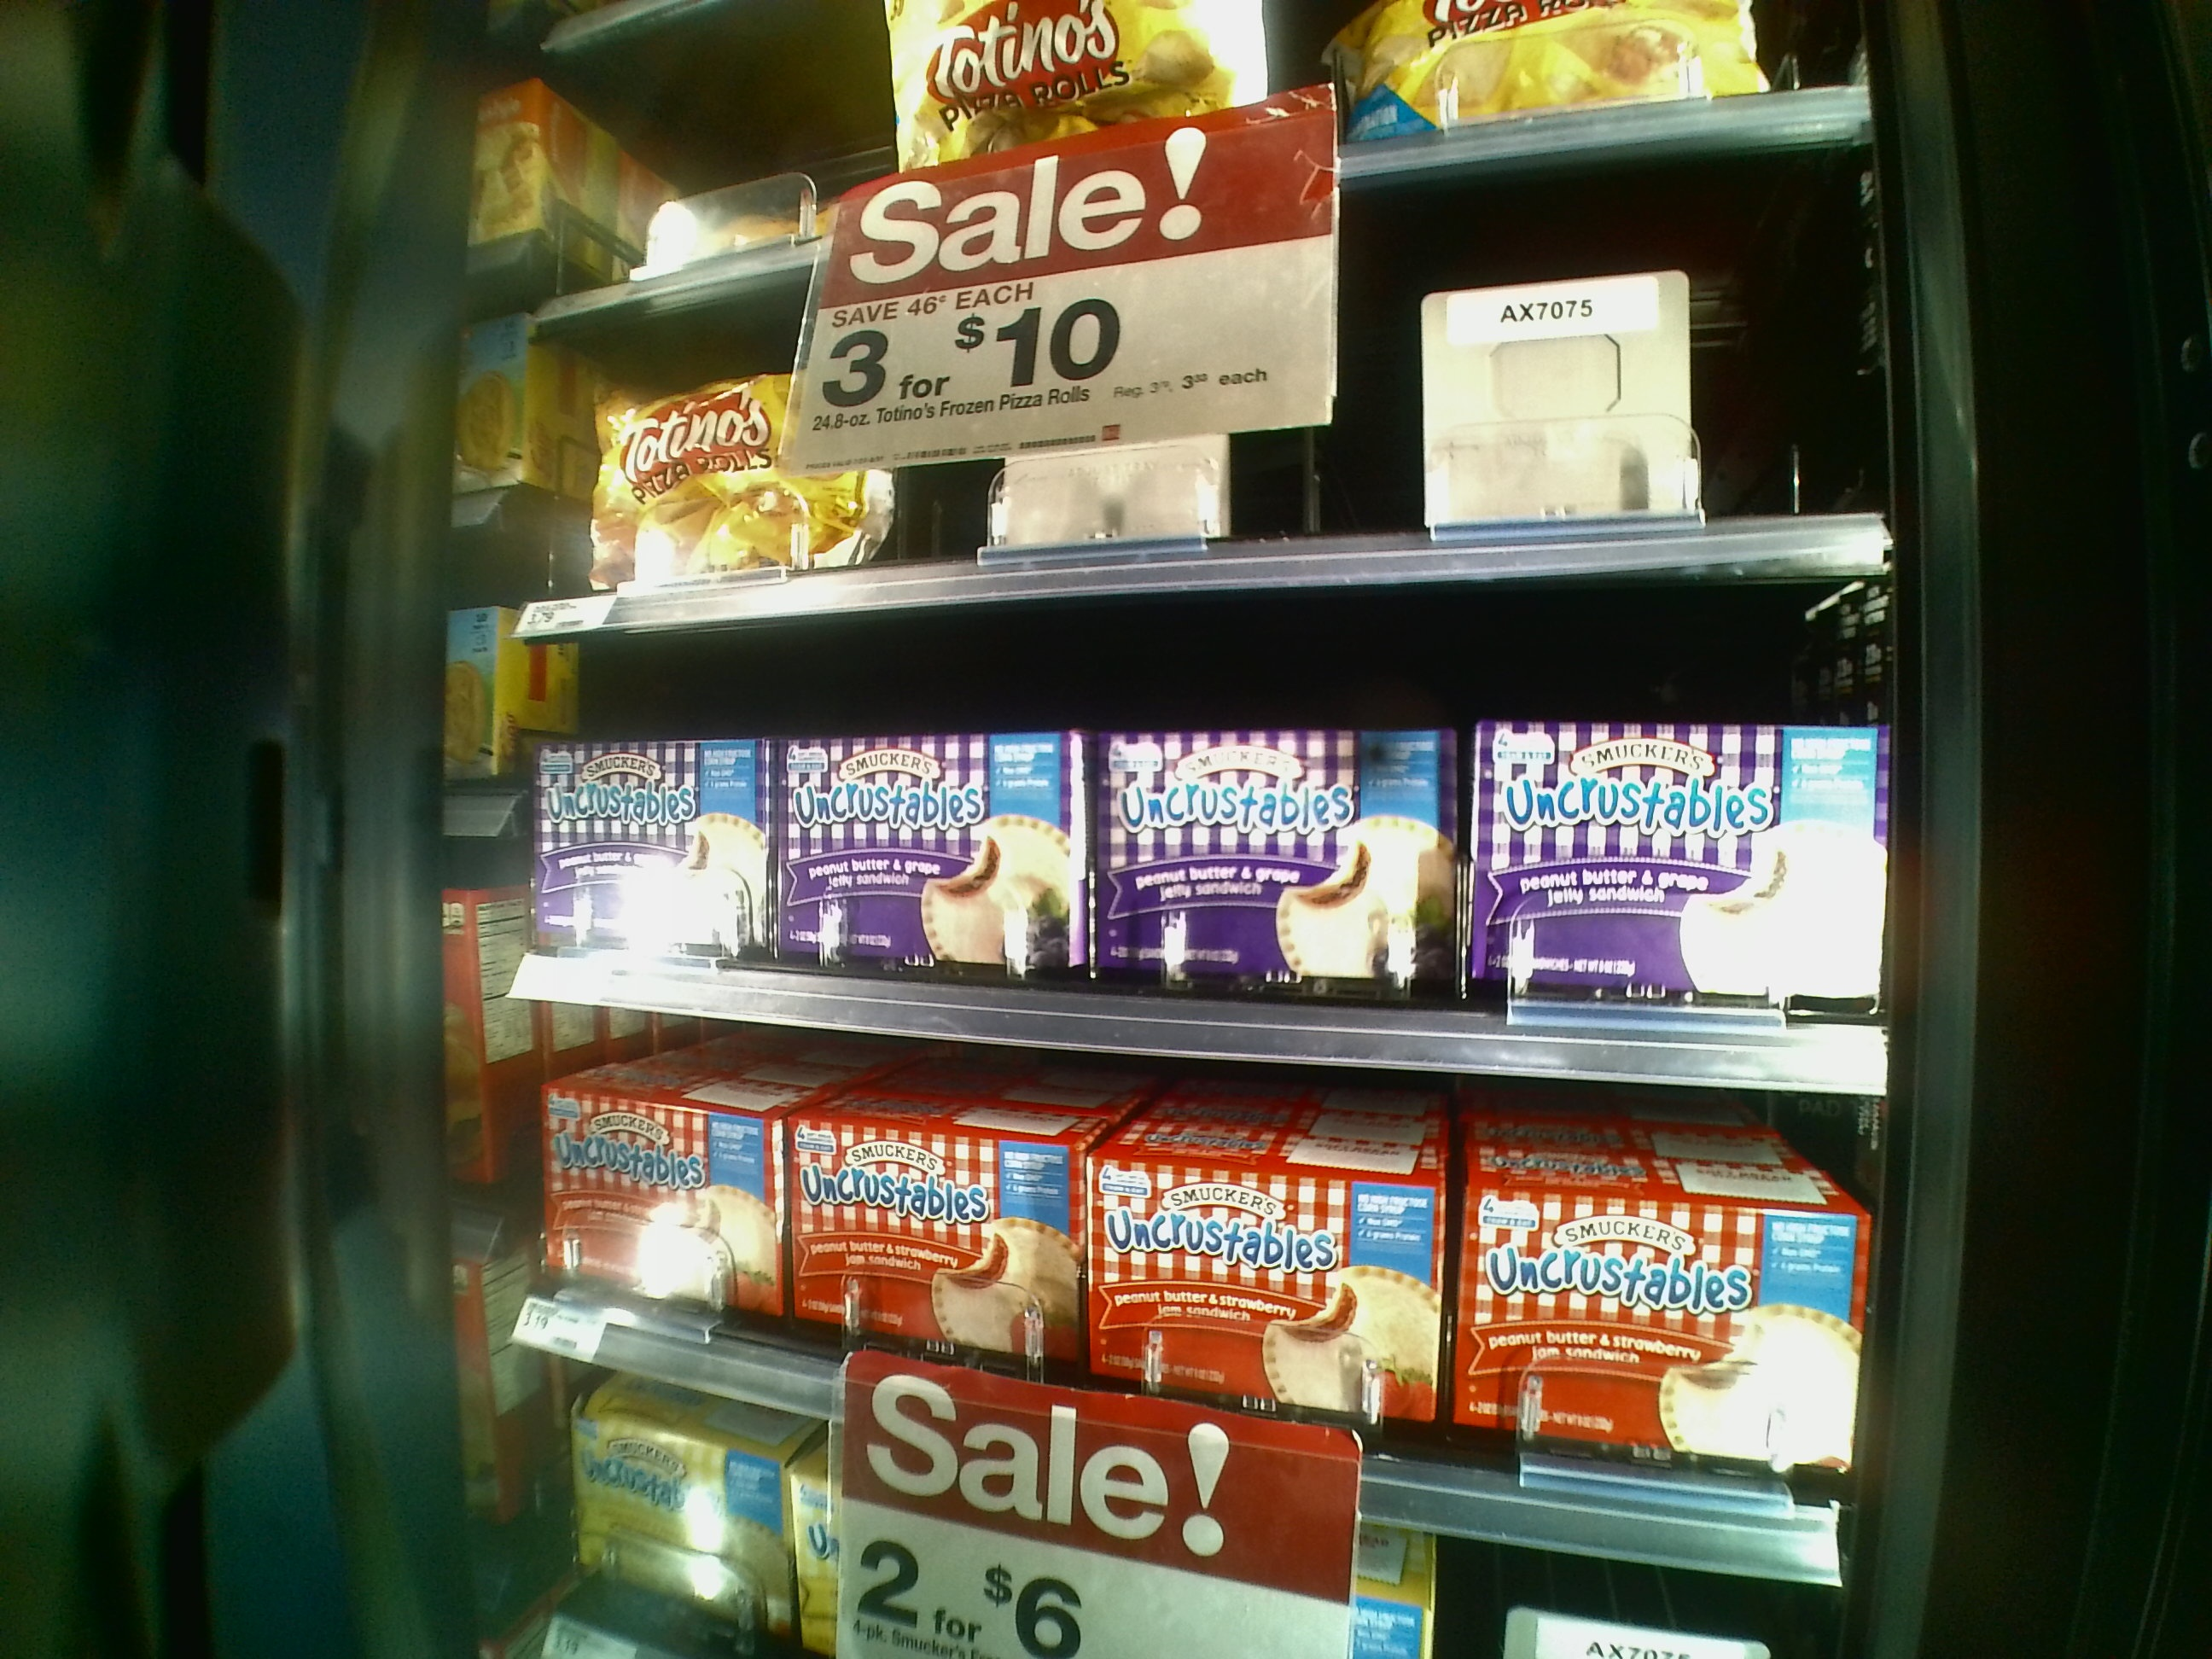shelf: (479, 972, 1853, 1581), (482, 615, 1892, 1079), (529, 300, 1881, 582)
